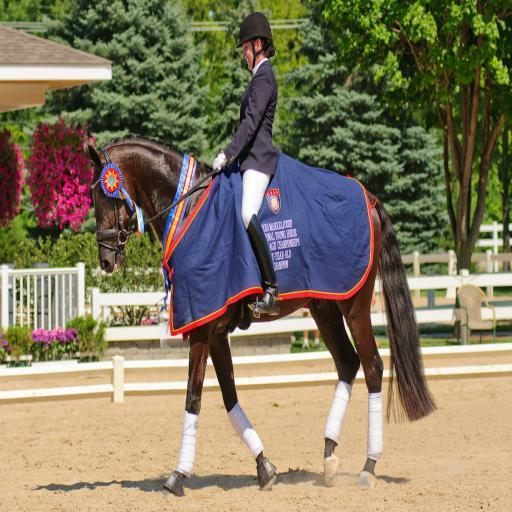horse: (81, 133, 437, 500)
